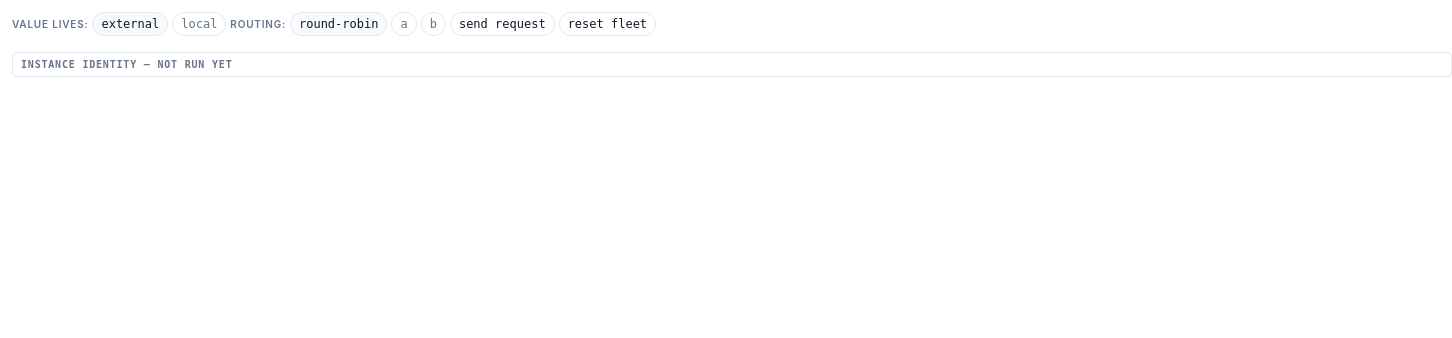
Scenario: StatelessDemo › paints the probe: identity, both private counters, the shared truth, and what this caller was told
Expected: the element with test id "scaling-report" shows "not run yet", [157, 59, 232, 70]
Click the button with test id "scaling-send" at coordinates (502, 24), box [450, 12, 555, 36]
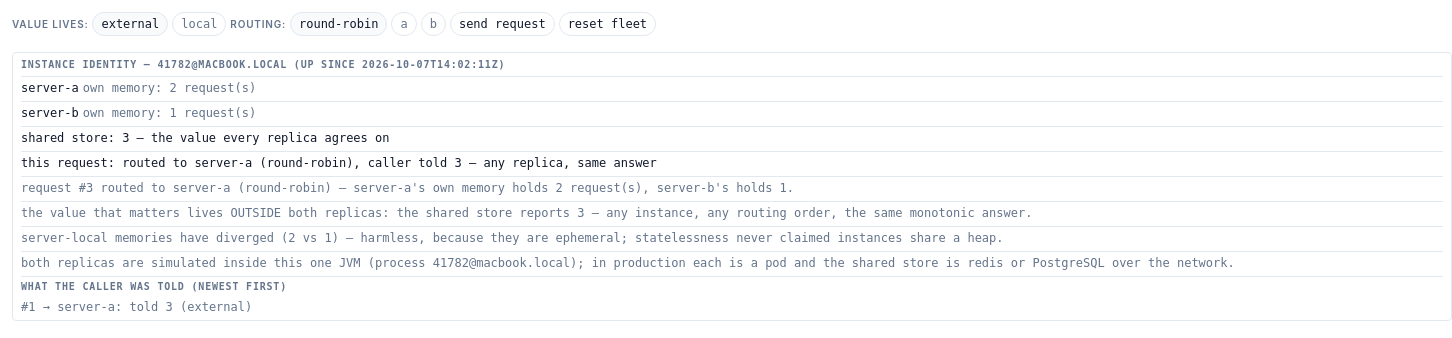
Now the element with test id "scaling-report" shows "41782@macbook.local", box [157, 59, 505, 70]
Now the number of elements with test id "scaling-instance" is 2, box [21, 76, 1443, 97]; [21, 101, 1443, 122]
Now the element with test id "scaling-instance" shows "server-a", box [21, 81, 79, 95]
